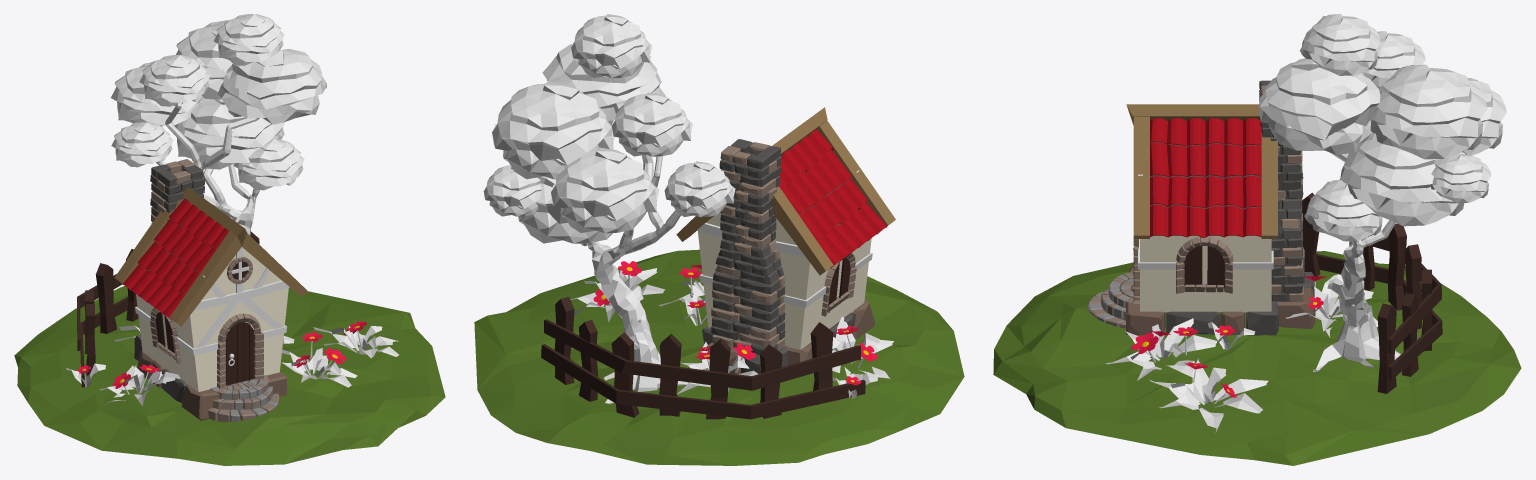
File: house.fbx
3 views of the same model, side by side, from view 1: azimuth 30°, elevation 25°; view 2: azimuth 150°, elevation 25°; view 3: azimuth 270°, elevation 25° (orthographic). The views are drawn at different scales.
Parts seen in each view (by area): view 1: Sphere.001, Wall, Roof, Icosphere.001, roof Frame, Icosphere.006, Door, Icosphere, Icosphere.008, Trunk, House Frame, Icosphere.007 (+16 smaller); view 2: Sphere.001, Chiminy, Icosphere.002, Roof, Icosphere.005, Wall, Trunk, Circle.001, Circle.002, roof Frame, Icosphere.008, Icosphere (+17 smaller); view 3: Sphere.001, Roof, Icosphere.001, Icosphere.002, Wall, Icosphere.006, roof Frame, Chiminy, Trunk, Floor, Icosphere.008, Icosphere.007 (+18 smaller).
Boxes of the visible parts, box(x1,y1,x2,y2) form: Sphere.001: box(14, 286, 445, 465); Wall: box(136, 224, 288, 391); Roof: box(122, 198, 228, 319); Icosphere.001: box(217, 49, 326, 124); roof Frame: box(114, 187, 307, 326); Icosphere.006: box(174, 97, 284, 169); Door: box(217, 313, 263, 388); Icosphere: box(139, 55, 210, 106); Icosphere.008: box(213, 14, 284, 65); Trunk: box(156, 102, 259, 235); House Frame: box(135, 247, 289, 355); Icosphere.007: box(233, 139, 304, 190); Sphere.001: box(474, 249, 964, 465); Chiminy: box(711, 139, 785, 354); Icosphere.002: box(492, 81, 614, 179); Roof: box(778, 129, 887, 267); Icosphere.005: box(551, 147, 659, 233); Wall: box(698, 165, 871, 349); Trunk: box(580, 154, 688, 403); Circle.001: box(541, 344, 865, 419); Circle.002: box(544, 319, 860, 390); roof Frame: box(676, 107, 895, 275); Icosphere.008: box(571, 14, 652, 78); Icosphere: box(611, 92, 692, 156); Sphere.001: box(993, 251, 1521, 465); Roof: box(1150, 118, 1261, 237); Icosphere.001: box(1258, 58, 1380, 154); Icosphere.002: box(1370, 64, 1487, 159); Wall: box(1140, 141, 1271, 312); Icosphere.006: box(1339, 133, 1464, 226); roof Frame: box(1126, 104, 1277, 238); Chiminy: box(1259, 80, 1304, 301); Trunk: box(1313, 152, 1400, 372); Floor: box(1126, 265, 1315, 335); Icosphere.008: box(1300, 14, 1380, 75); Icosphere.007: box(1304, 180, 1382, 241).
Bounding box in the file's own units: 1844 × 1451 × 1863.
